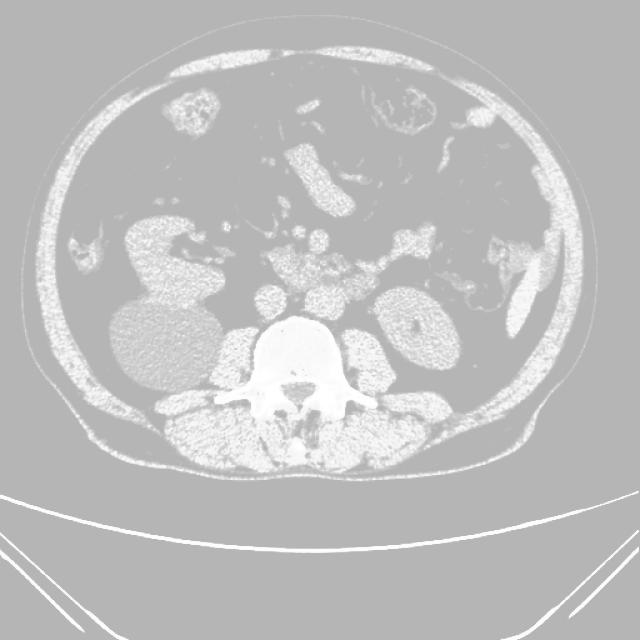cysts: (34, 40, 588, 480)
